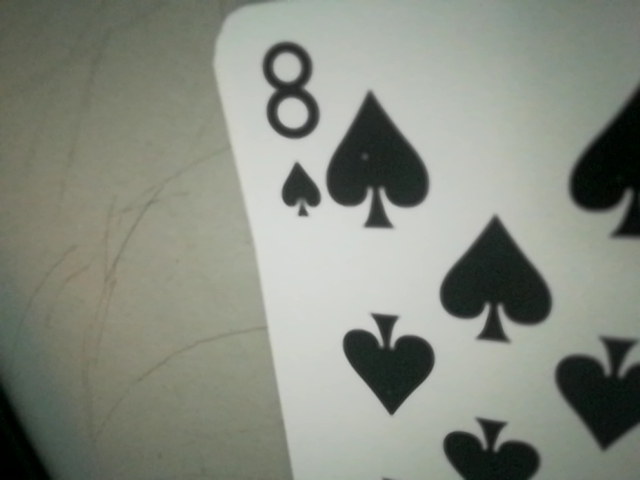ht 8: (244, 20, 341, 232)
